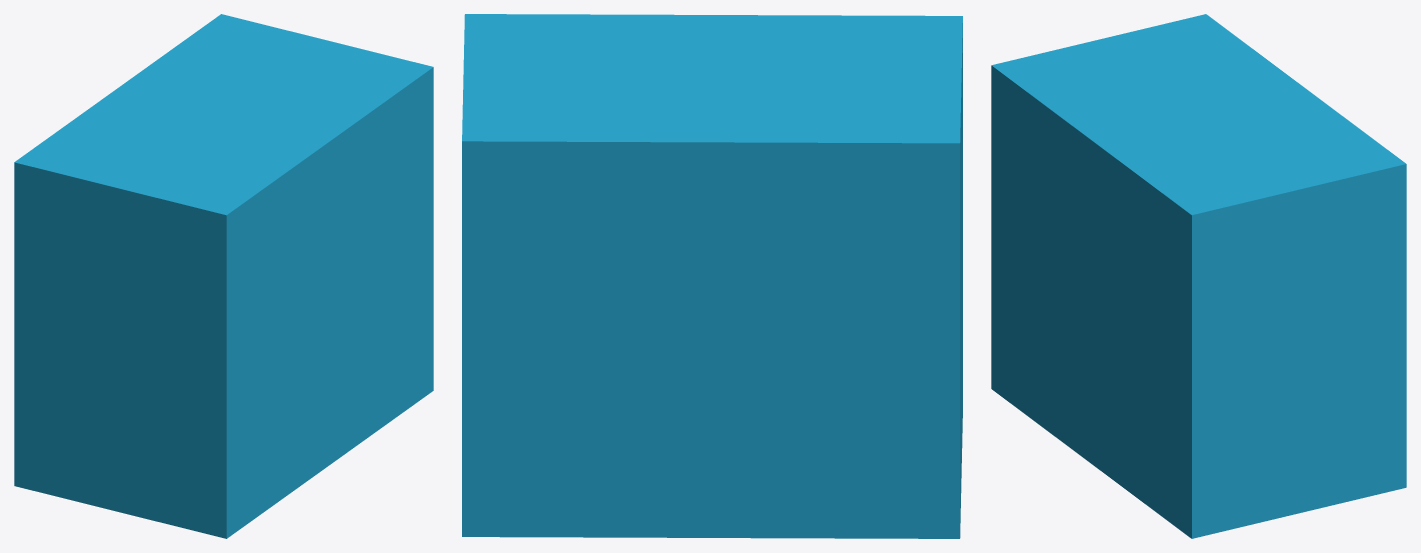
The picture shows the model from 3 angles, left to right: view 1: azimuth 30°, elevation 25°; view 2: azimuth 150°, elevation 25°; view 3: azimuth 270°, elevation 25°; orthographic projection. The views are drawn at different scales.
Visible parts, largest first — view 1: Visual_Cube; view 2: Visual_Cube; view 3: Visual_Cube.
Boxes of the visible parts, x1,y1,x2,y2 form: Visual_Cube: [14, 14, 433, 538]; Visual_Cube: [462, 14, 962, 538]; Visual_Cube: [991, 14, 1406, 538].
Bounding box in the file's own units: 124 × 93.32 × 109.
